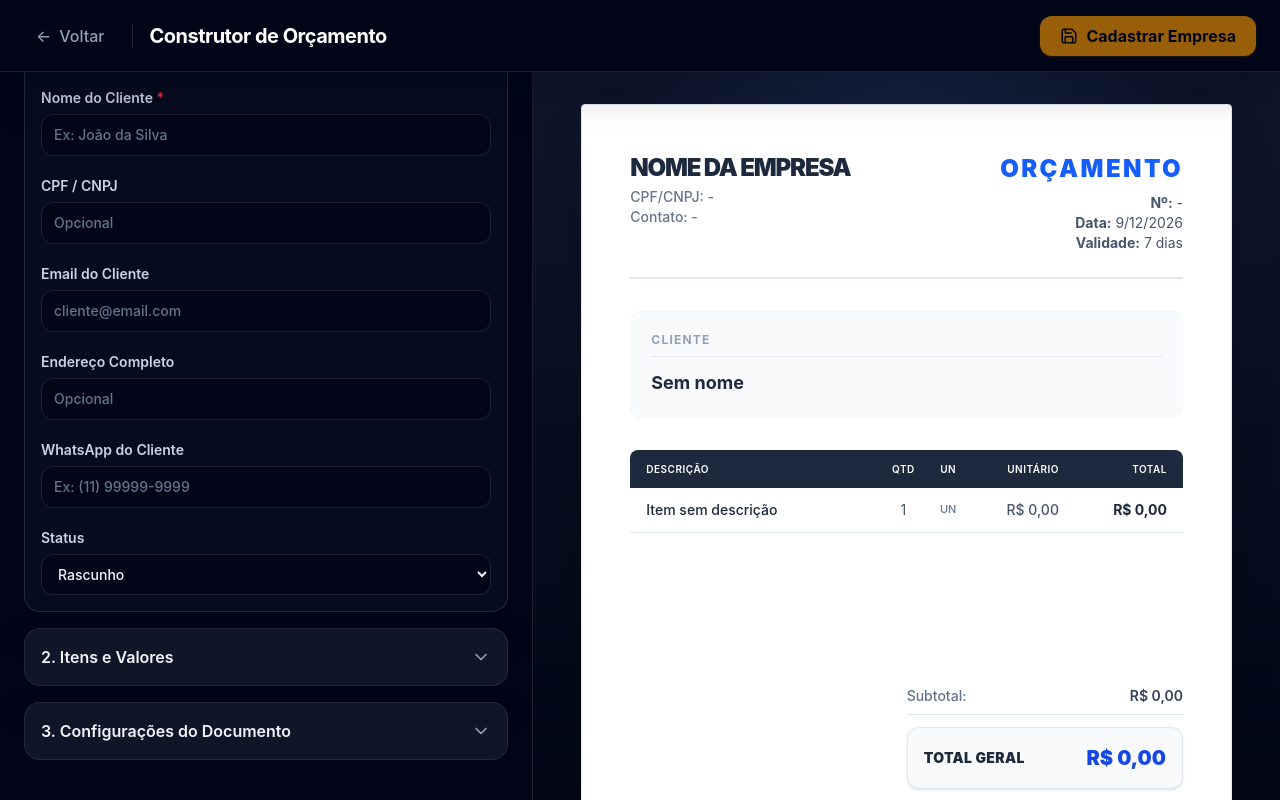
BudgetPage › renders the empty item state when all items are removed
(page scrolled)
Click the button "2. Itens e Valores" at (107, 657), box left=25, top=629, right=507, bottom=685
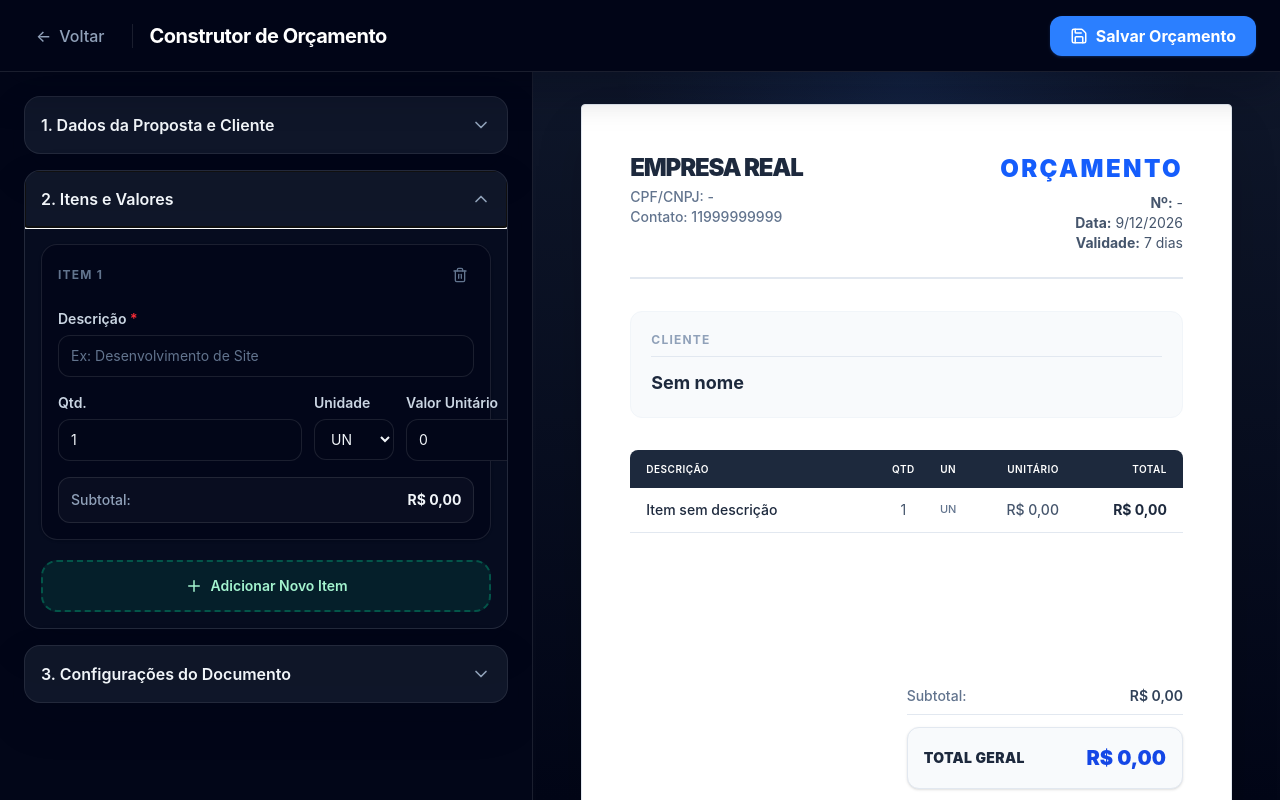
Click the button titled "Remover item" at (460, 275), box left=446, top=261, right=474, bottom=289
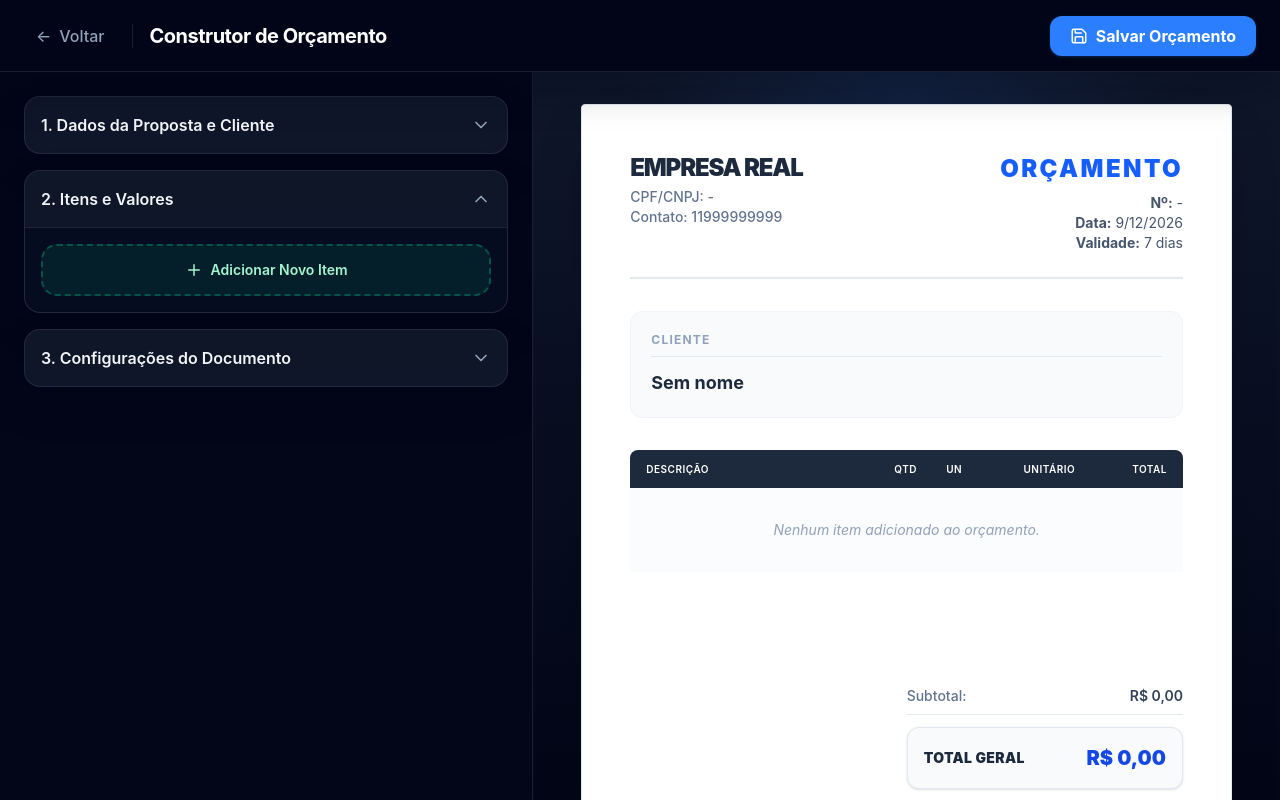
Now the text "Nenhum item adicionado ao orçamento." is shown, box left=630, top=488, right=1183, bottom=572
